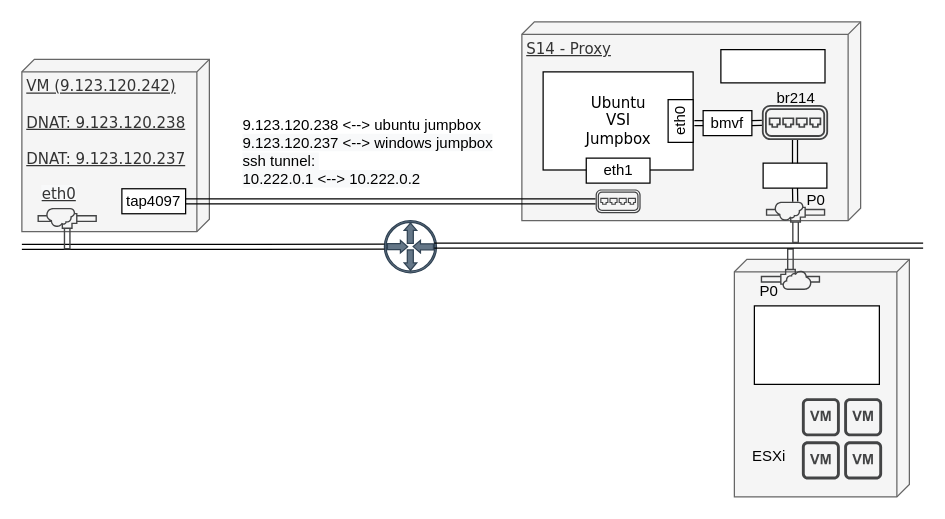
Image size: 945x519. Some labels were removed from this diagram. The centre of each missing label's shape, as x and y in pixels:
"mac_mgr" goes at (x=772, y=65).
"P0.214" goes at (x=794, y=175).
"Windows Jumpbox" goes at (x=816, y=344).
